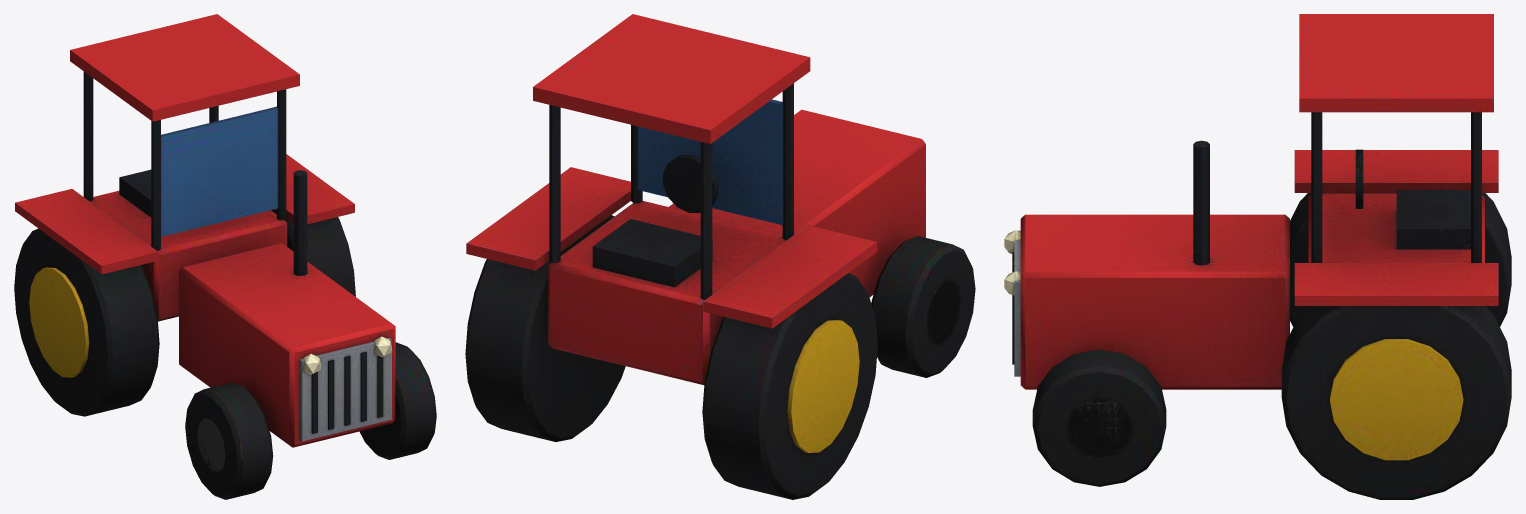
The model's file is tractor.glb.
3 renders of one model, left to right at view 1: azimuth 30°, elevation 25°; view 2: azimuth 150°, elevation 25°; view 3: azimuth 270°, elevation 25°, orthographic. The views are drawn at different scales.
Parts seen in each view (by area): view 1: tractor; view 2: tractor; view 3: tractor.
Boxes of the visible parts, <box> form: tractor: <box>14,14,436,499</box>; tractor: <box>465,14,975,499</box>; tractor: <box>1004,14,1511,499</box>.
Size of the model in its own units: 1.87 by 2.23 by 2.73.
1 material, 1 textured.
